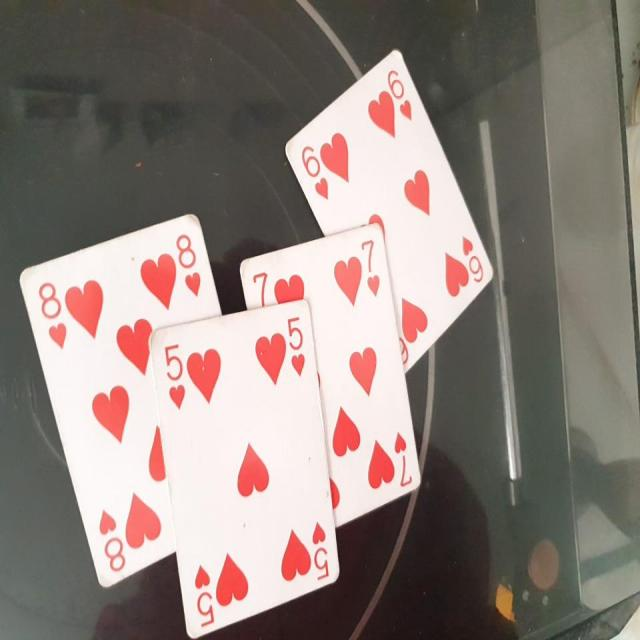5 Hearts: (152, 298, 349, 637)
6 Hearts: (276, 36, 496, 378)
7 Hearts: (236, 215, 426, 528)
8 Hearts: (19, 205, 220, 590)
